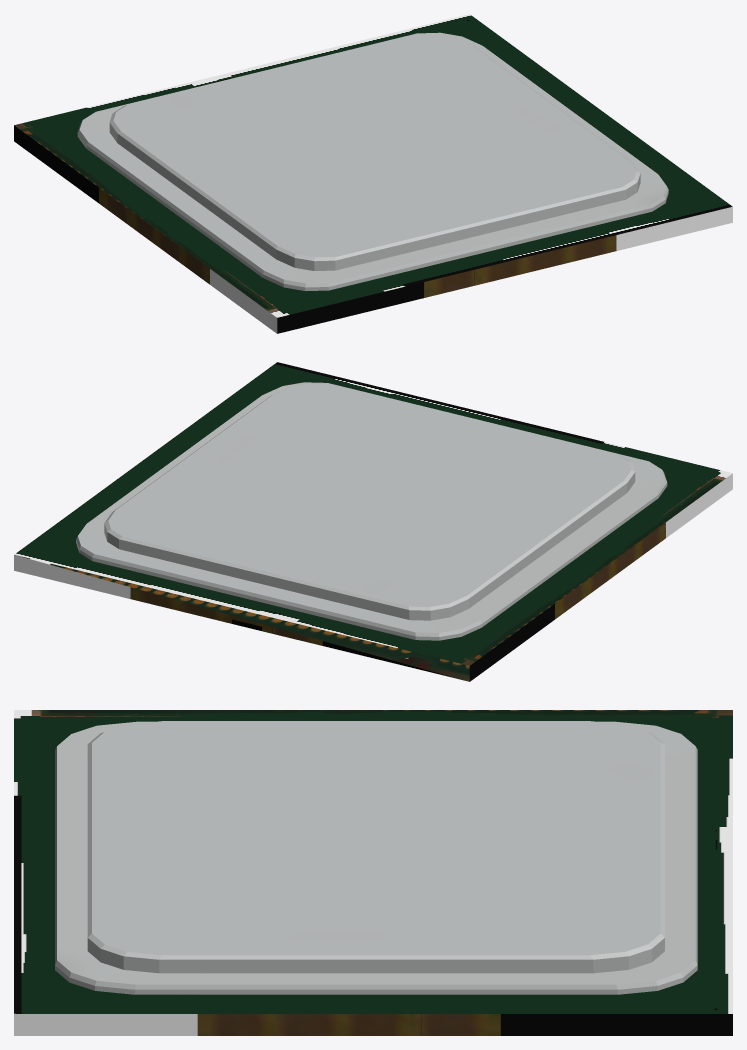
File: Cpu.glb
The picture shows the model from 3 angles, top to bottom: view 1: azimuth 30°, elevation 25°; view 2: azimuth 150°, elevation 25°; view 3: azimuth 270°, elevation 25°; orthographic projection. The views are drawn at different scales.
Parts seen in each view (by area): view 1: Object_3, Object_2; view 2: Object_3, Object_2; view 3: Object_3, Object_2.
Boxes of the visible parts, x1,y1,x2,y2 form: Object_3: (77, 32, 668, 291); Object_2: (14, 14, 732, 333); Object_3: (76, 382, 667, 640); Object_2: (14, 362, 732, 681); Object_3: (55, 721, 697, 994); Object_2: (14, 710, 732, 1035).
Size of the model in its own units: 3.16 by 0.2307 by 3.16.
Materials: 2 (2 with a texture image).
